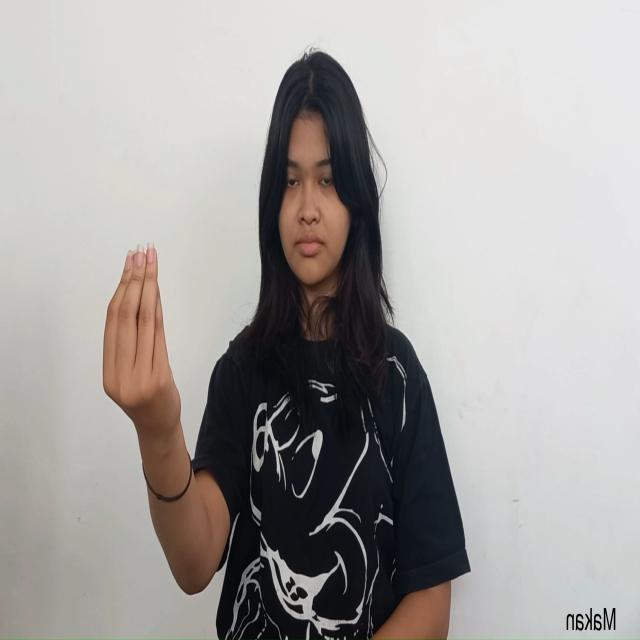Makan -BISINDO-: (102, 239, 184, 465)
